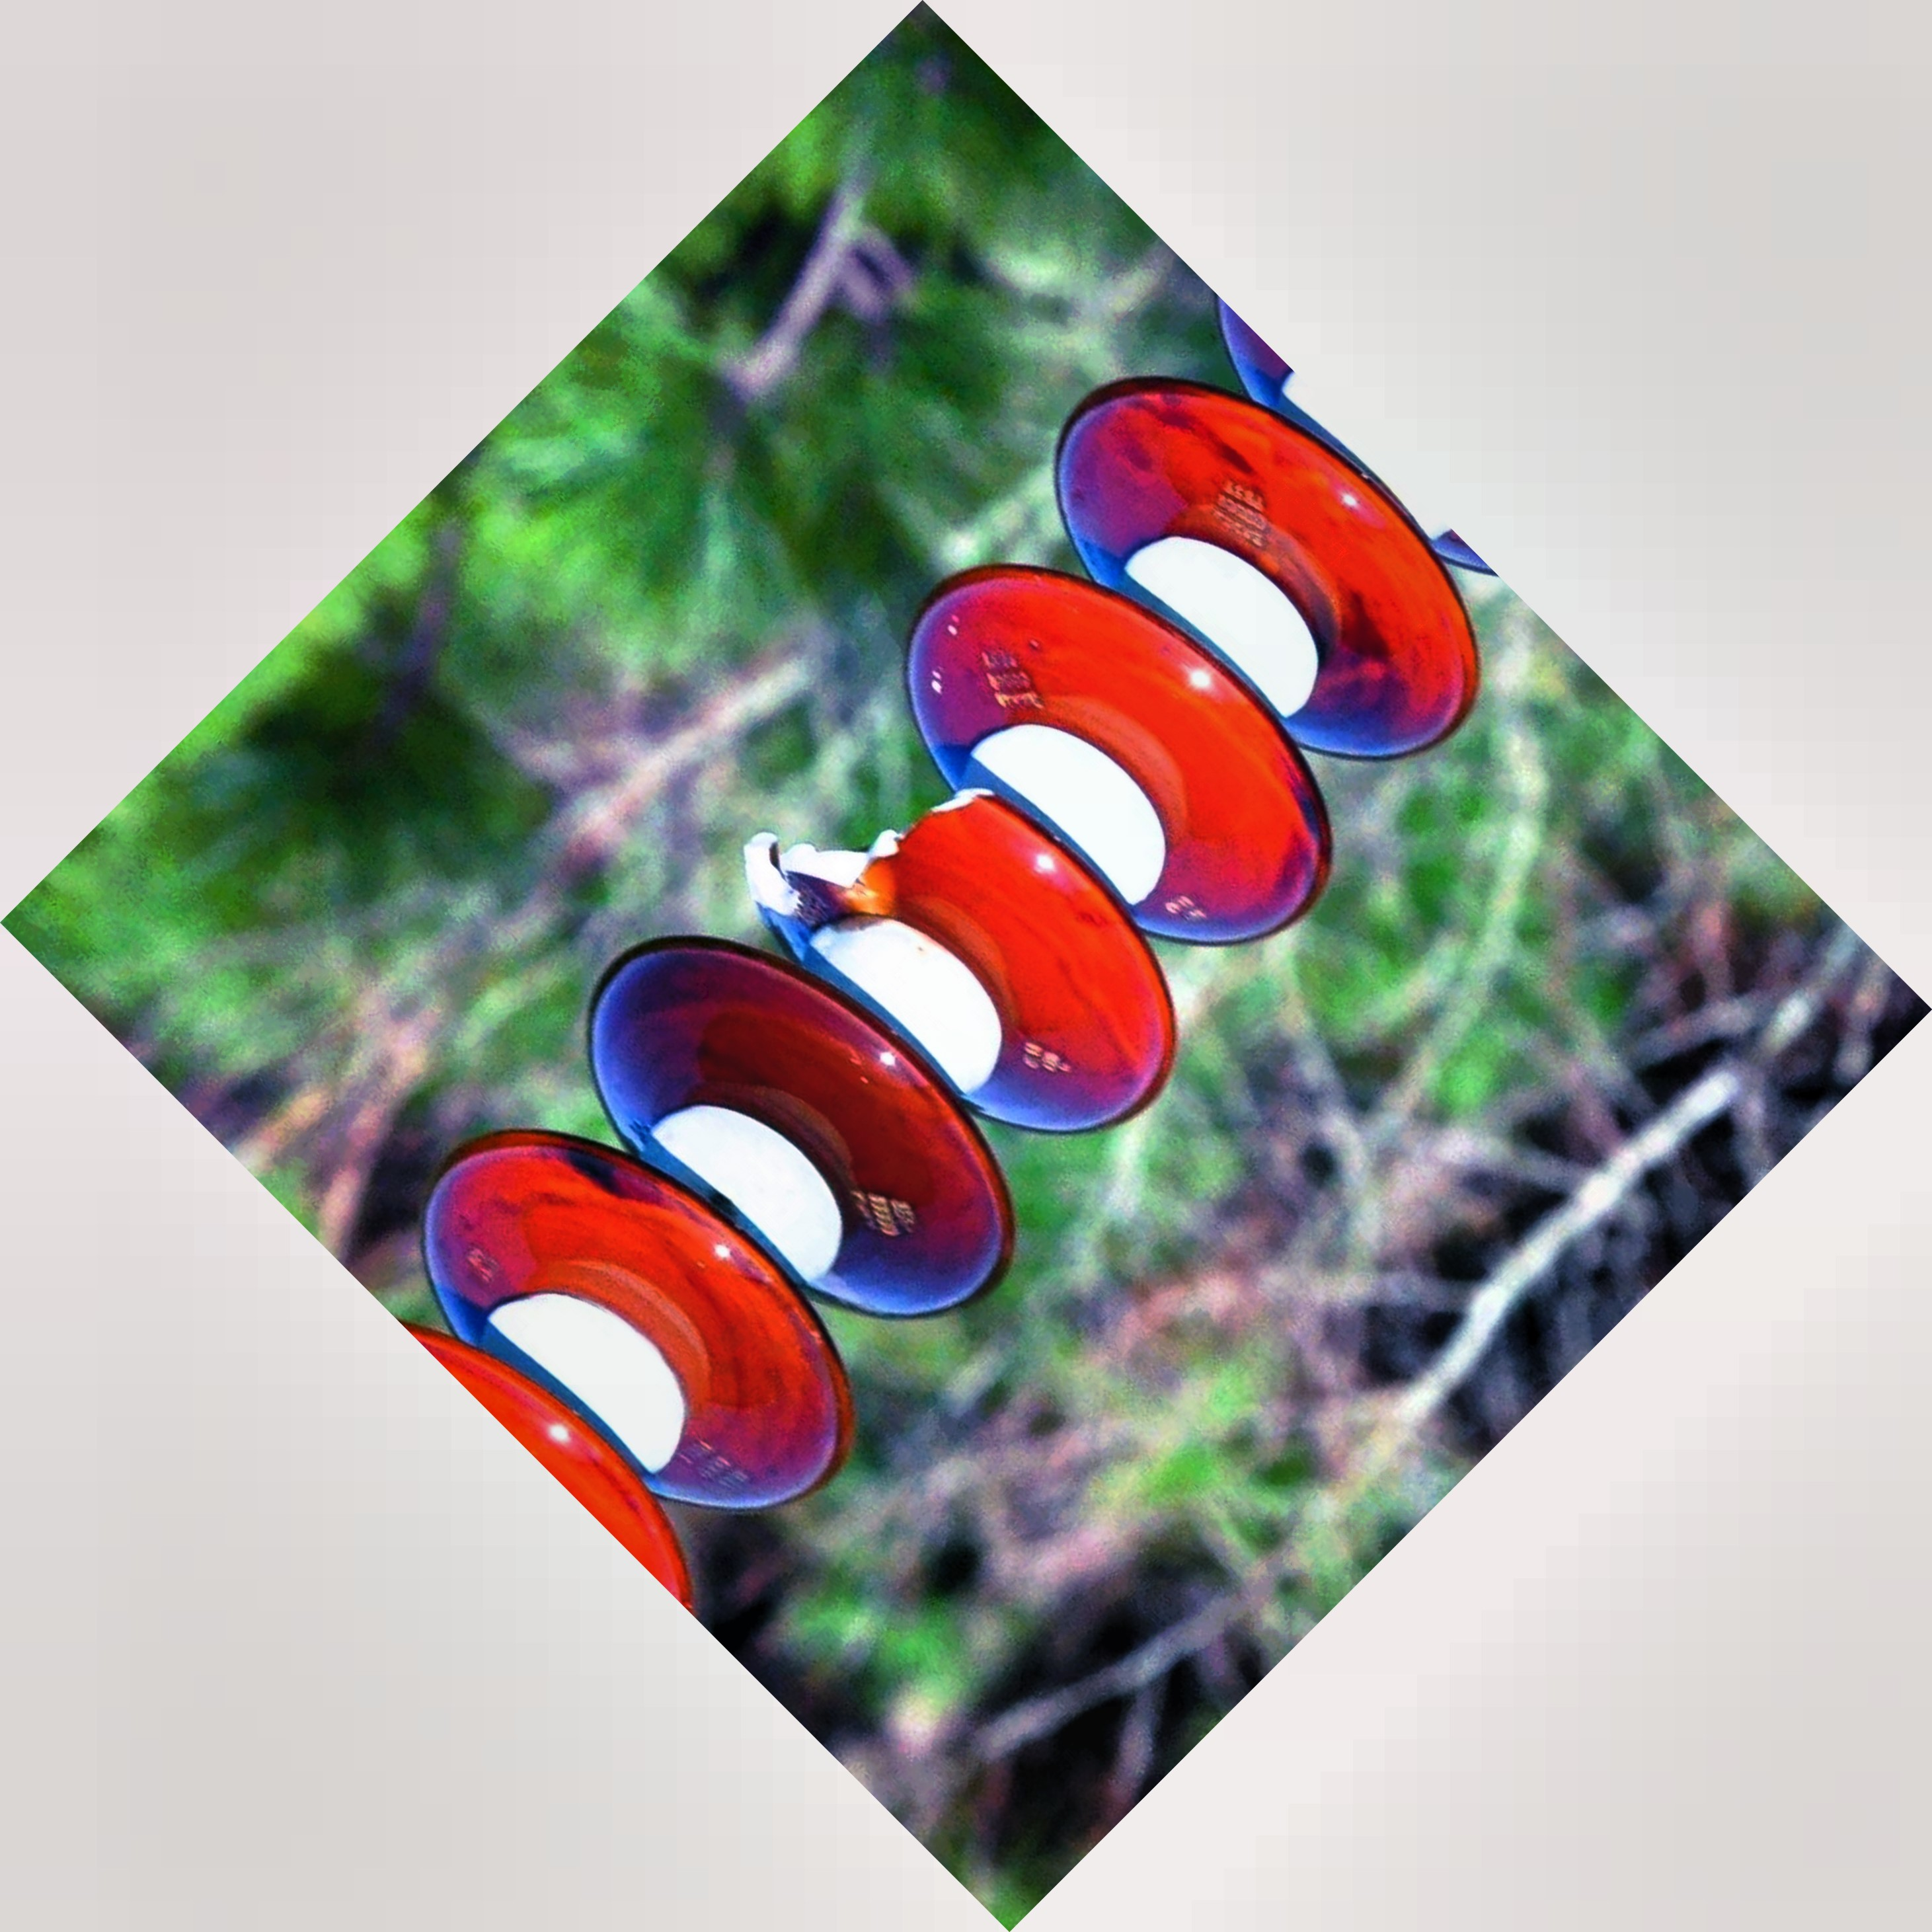insulator breakage: (732, 773, 1187, 1141)
